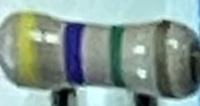Blue: (60, 21, 89, 86)
Green: (107, 25, 129, 89)
Side-Silver: (153, 21, 179, 99)
Yellow: (12, 12, 47, 90)
